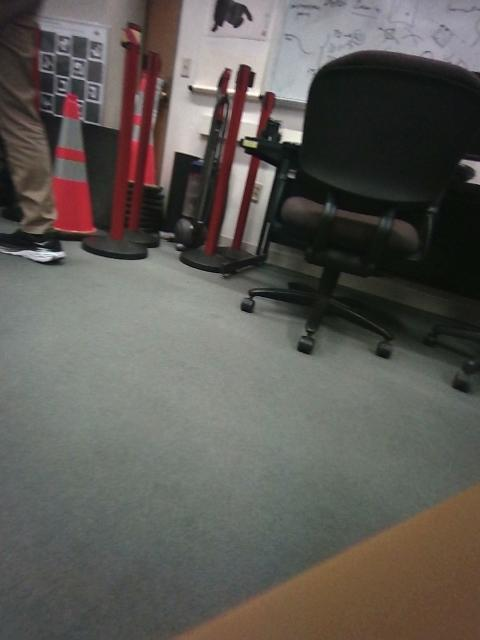block: (1, 347, 49, 438)
